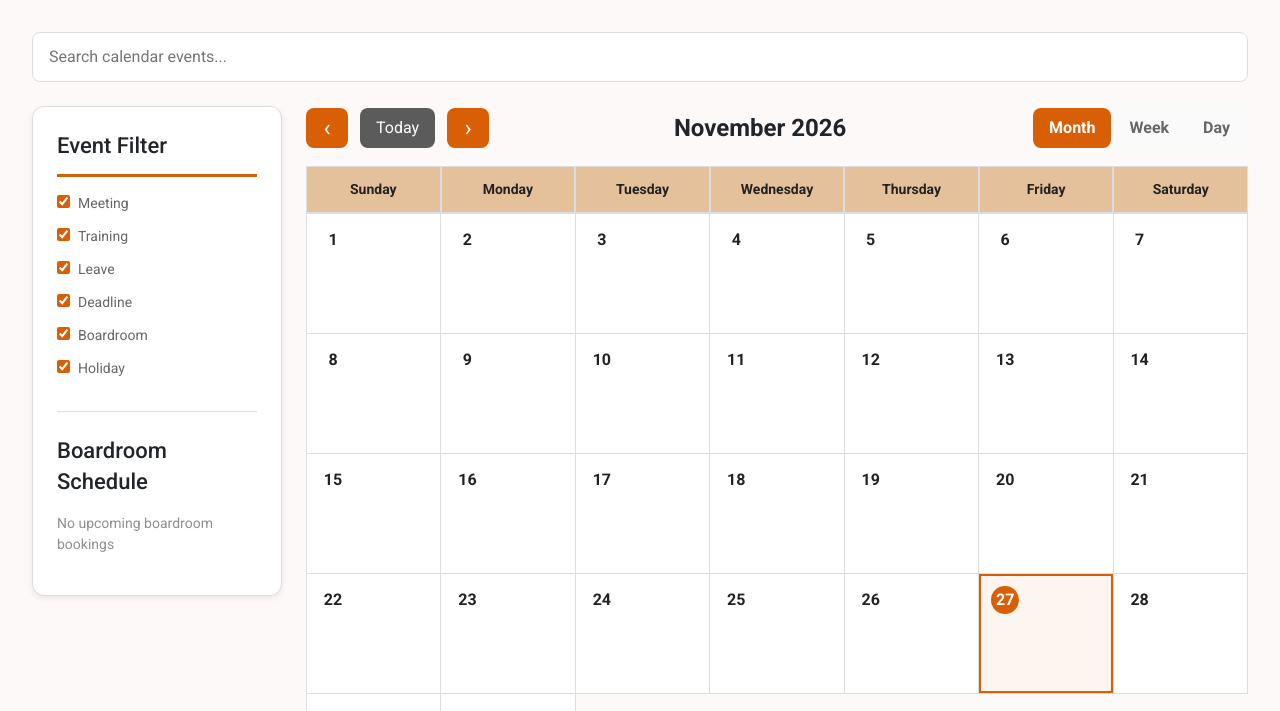
Test: Calendar - day events modal › shows an empty state with a Book Boardroom action for a day with no events
Click the element with class "date-number" at (912, 274), box [845,214,979,334]
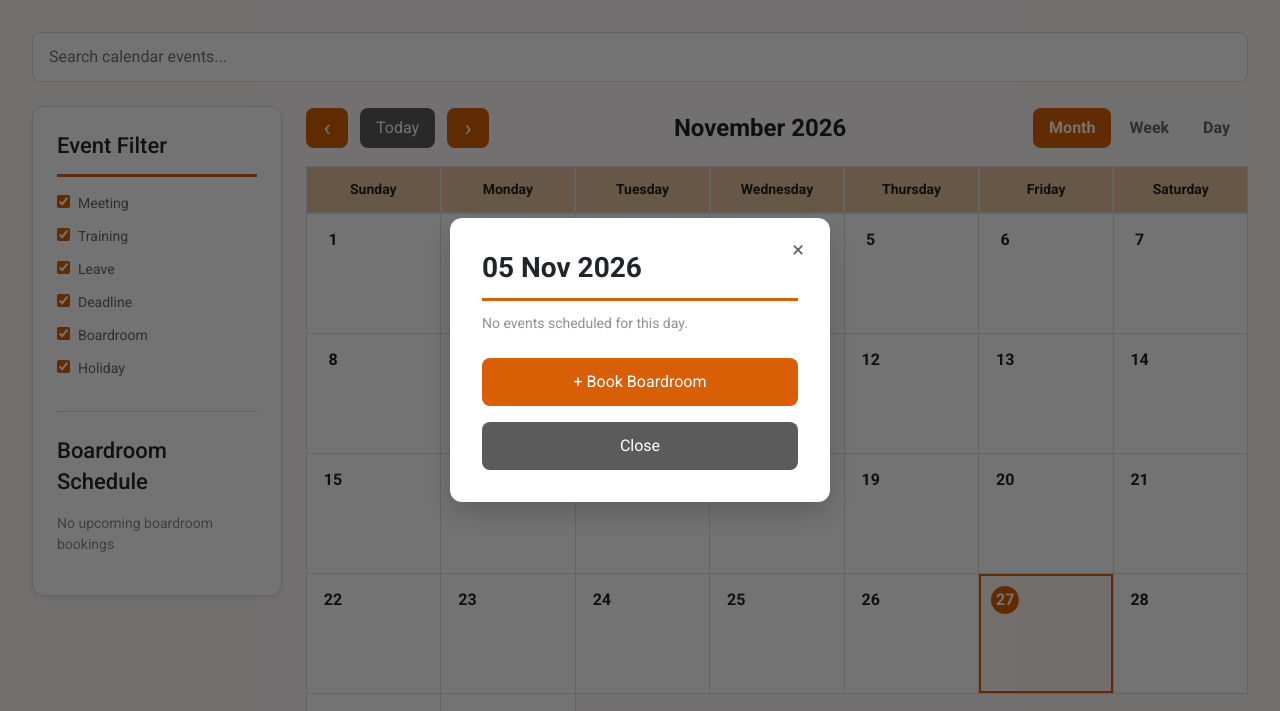
Expected: the text "No events scheduled for this day." is shown, [482,315,688,331]
Expected: the button "+ Book Boardroom" is shown, [482,358,798,406]
